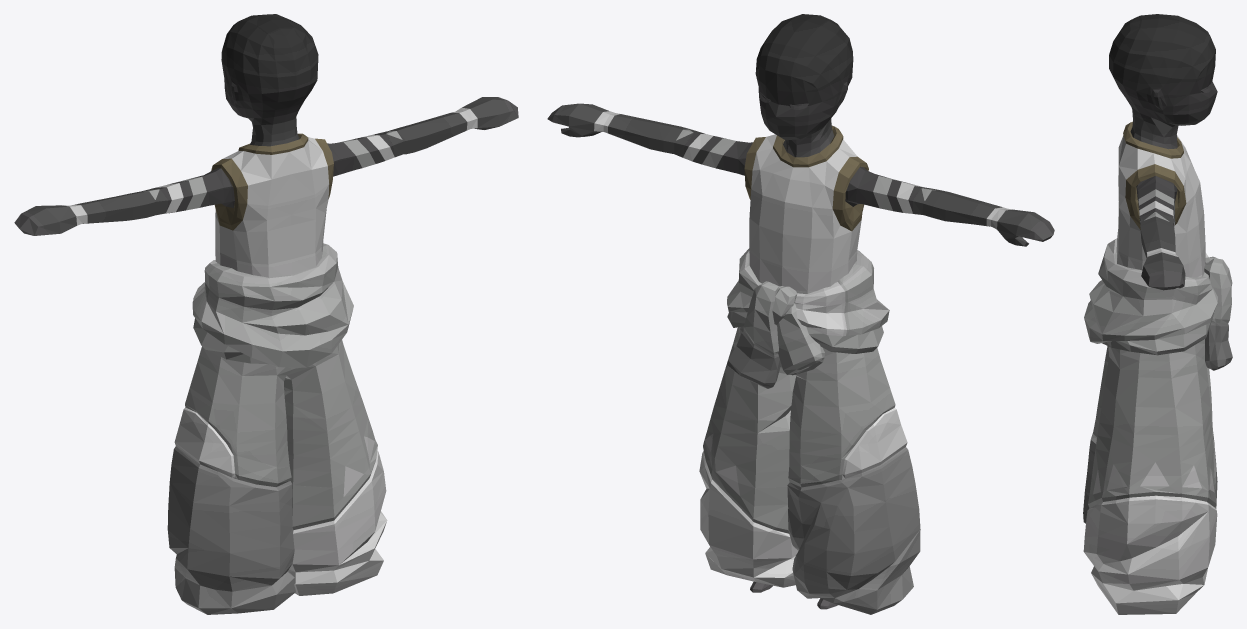
The model's file is CharSkyKid_Body_ColorTiedJumpsuit.glb.
The picture shows the model from 3 angles, left to right: view 1: azimuth 30°, elevation 25°; view 2: azimuth 150°, elevation 25°; view 3: azimuth 270°, elevation 25°; orthographic projection.
Visible parts, largest first — view 1: CharSkyKid_Body_ColorTiedJumpsuit; view 2: CharSkyKid_Body_ColorTiedJumpsuit; view 3: CharSkyKid_Body_ColorTiedJumpsuit.
Part boxes in pixels (x1,y1,x2,y2): CharSkyKid_Body_ColorTiedJumpsuit: (14, 14, 518, 614); CharSkyKid_Body_ColorTiedJumpsuit: (547, 14, 1054, 614); CharSkyKid_Body_ColorTiedJumpsuit: (1083, 14, 1232, 614).
Bounding box in the file's own units: 13.83 × 14.98 × 3.64.
Materials: 1 (1 with a texture image).
